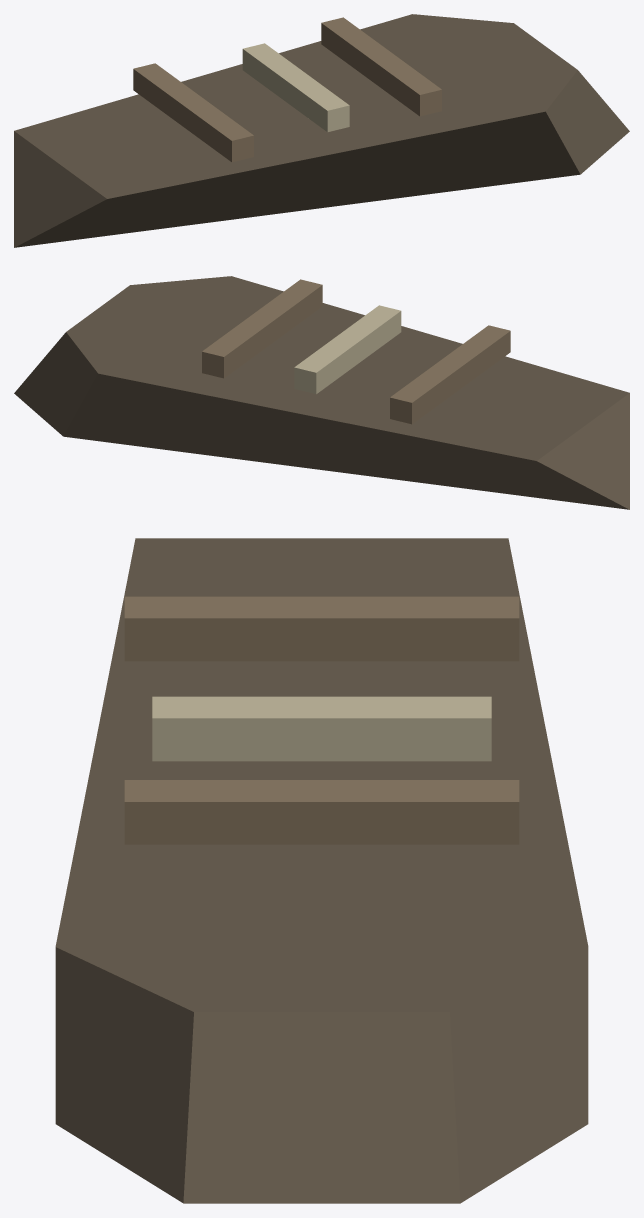
Rendered from rowboat_blackgate_cove.glb.
3 views of the same model, one above another, from view 1: azimuth 30°, elevation 25°; view 2: azimuth 150°, elevation 25°; view 3: azimuth 270°, elevation 25° (orthographic). The views are drawn at different scales.
Parts seen in each view (by area): view 1: Rowboat_shallow_hull, Rowboat_cross_seat.001, Rowboat_cross_seat, Rowboat_center_thwart; view 2: Rowboat_shallow_hull, Rowboat_cross_seat.001, Rowboat_cross_seat, Rowboat_center_thwart; view 3: Rowboat_shallow_hull, Rowboat_cross_seat, Rowboat_cross_seat.001, Rowboat_center_thwart.
Boxes of the visible parts, <box> form: Rowboat_shallow_hull: <box>14,14,629,247</box>; Rowboat_cross_seat.001: <box>321,17,441,116</box>; Rowboat_cross_seat: <box>133,63,253,162</box>; Rowboat_center_thwart: <box>242,43,349,132</box>; Rowboat_shallow_hull: <box>14,276,629,509</box>; Rowboat_cross_seat.001: <box>202,279,322,378</box>; Rowboat_cross_seat: <box>390,325,510,424</box>; Rowboat_center_thwart: <box>294,305,401,394</box>; Rowboat_shallow_hull: <box>55,538,588,1203</box>; Rowboat_cross_seat: <box>124,596,519,661</box>; Rowboat_cross_seat.001: <box>124,780,519,844</box>; Rowboat_center_thwart: <box>152,696,491,761</box>.
Bounding box in the file's own units: 3.4 × 0.57 × 1.35.
